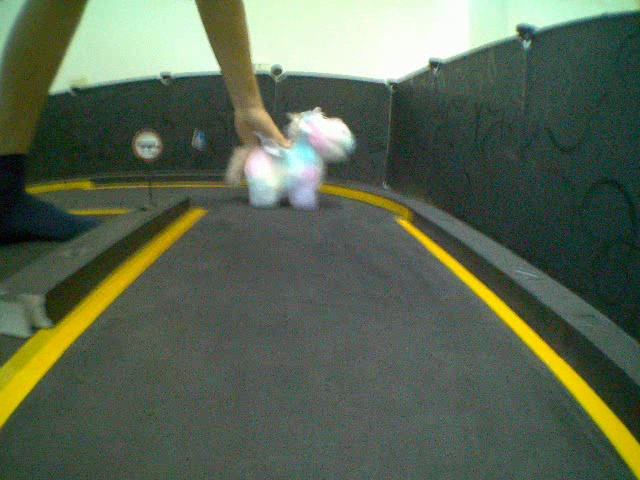unicorn: (222, 105, 355, 210)
